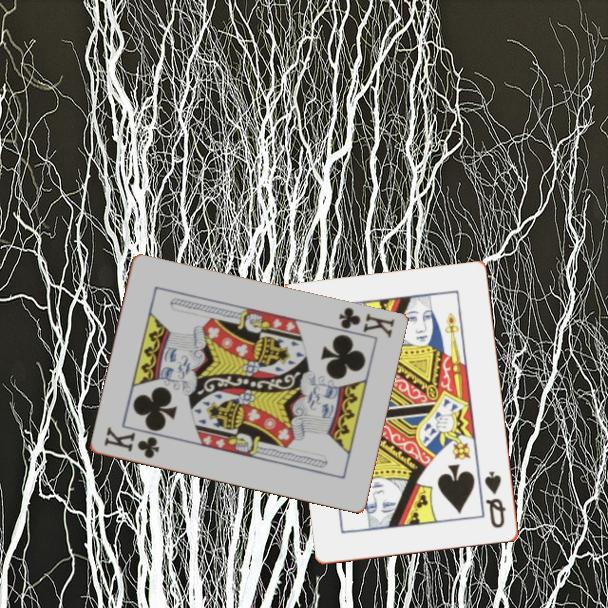c13: (100, 423, 162, 462), (335, 304, 397, 341)
s12: (481, 468, 509, 531)
